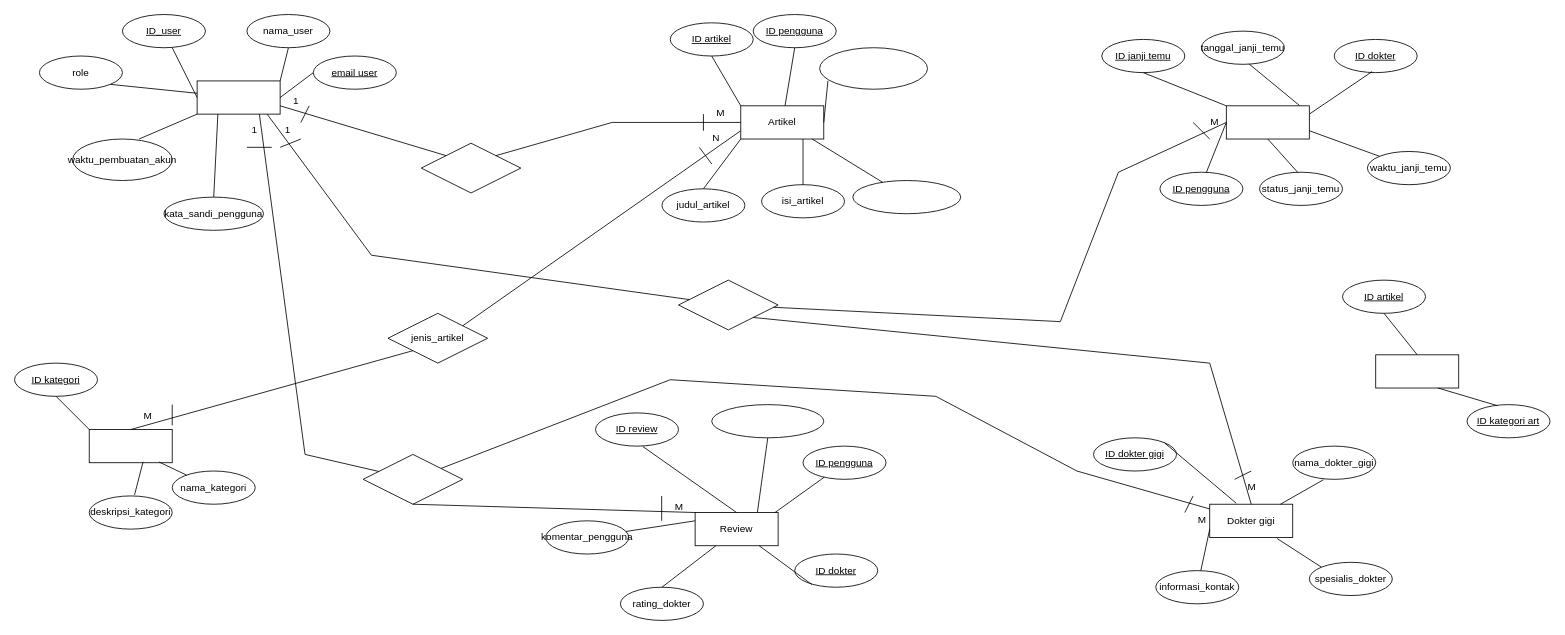
This 1565x635 diagram has some shape labels left out. The centre of each missing label's shape, as x and y in pixels:
Janji_temu: the point at 1267,122
janji_temu&konsultasi: the point at 728,304
kategori: the point at 130,446
Kategori_artikel: the point at 1417,371
membaca_artikel: the point at 470,167
meriview: the point at 412,479
User: the point at 238,97
waktu_pembuatan_artikel: the point at 873,68
waktu_pembuatan_review: the point at 767,421
waktu_update_artikel: the point at 906,197
